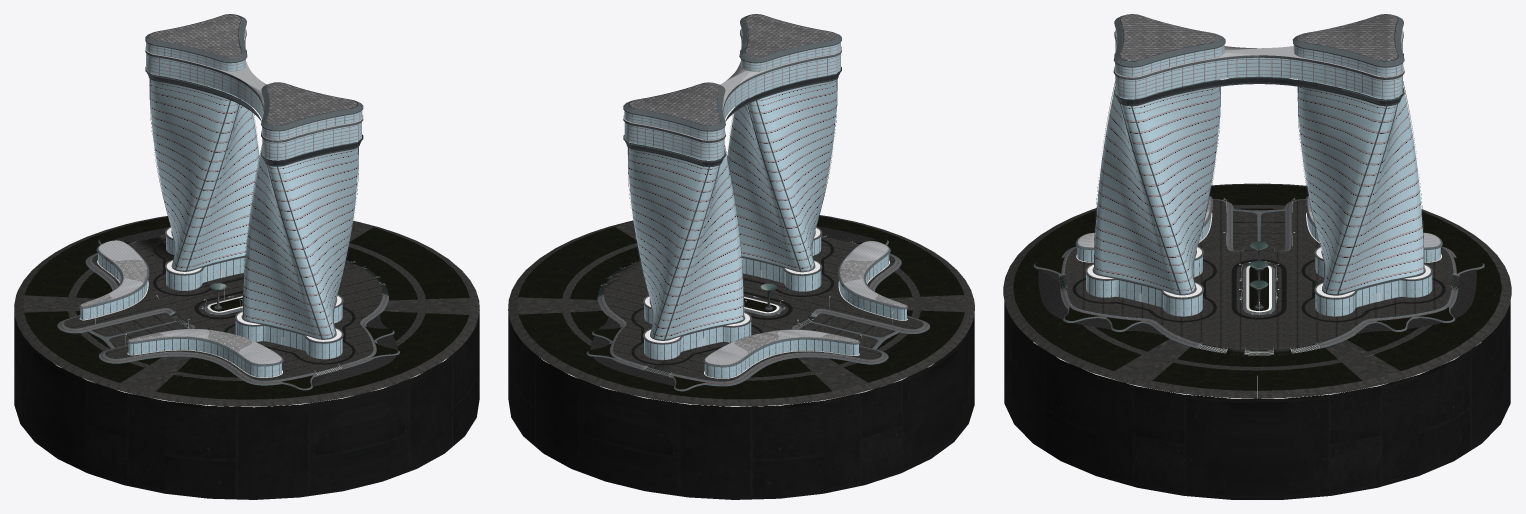
The model's file is Mall Exterior Building.fbx.
3 renders of one model, left to right at view 1: azimuth 30°, elevation 25°; view 2: azimuth 150°, elevation 25°; view 3: azimuth 270°, elevation 25°, orthographic. The views are drawn at different scales.
Parts seen in each view (by area): view 1: Base, Glass1, Base_Ground; view 2: Base, Glass1, Base_Ground; view 3: Base, Glass1, Base_Ground, Decore.
Part boxes in pixels (x1,y1,x2,y2): Base: (14,216,479,499); Glass1: (80,28,362,377); Base_Ground: (57,14,399,390); Base: (508,215,974,499); Glass1: (624,28,906,378); Base_Ground: (586,14,929,391); Base: (1003,183,1511,499); Glass1: (1077,29,1440,316); Base_Ground: (1033,14,1484,355); Decore: (1223,198,1294,315).
Size of the model in its own units: 9446 by 7365 by 9446.
